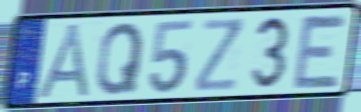3: (246, 12, 293, 94)
5: (147, 17, 196, 96)
A: (34, 21, 94, 100)
E: (291, 12, 350, 91)
Q: (94, 20, 146, 98)
Z: (193, 15, 246, 94)
